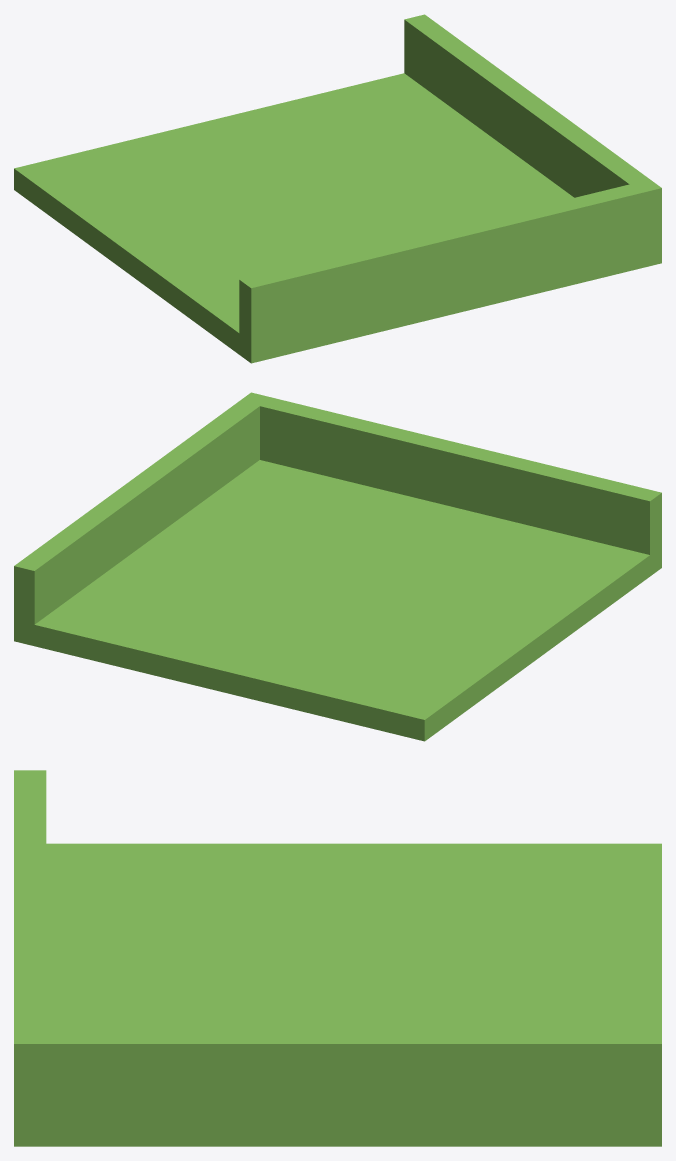
File: LimeRoof_Corner.glb
3 renders of one model, top to bottom at view 1: azimuth 30°, elevation 25°; view 2: azimuth 150°, elevation 25°; view 3: azimuth 270°, elevation 25°, orthographic. The views are drawn at different scales.
Parts seen in each view (by area): view 1: roof_flat_corner_lime; view 2: roof_flat_corner_lime; view 3: roof_flat_corner_lime.
Boxes of the visible parts, x1,y1,x2,y2 form: roof_flat_corner_lime: (14,14,661,363); roof_flat_corner_lime: (14,392,661,741); roof_flat_corner_lime: (14,770,661,1146).
Size of what is drawn, in the model's own units: 4 by 0.7 by 4.
1 material, 1 textured.
